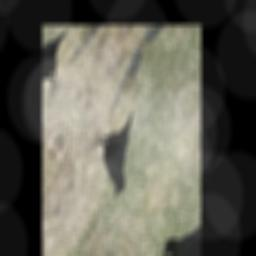Crow: (83, 99, 154, 205)
